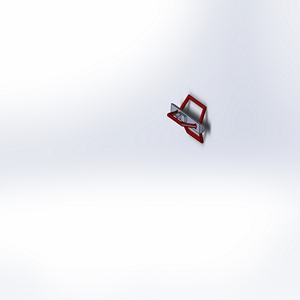submarine: (160, 88, 232, 165)
